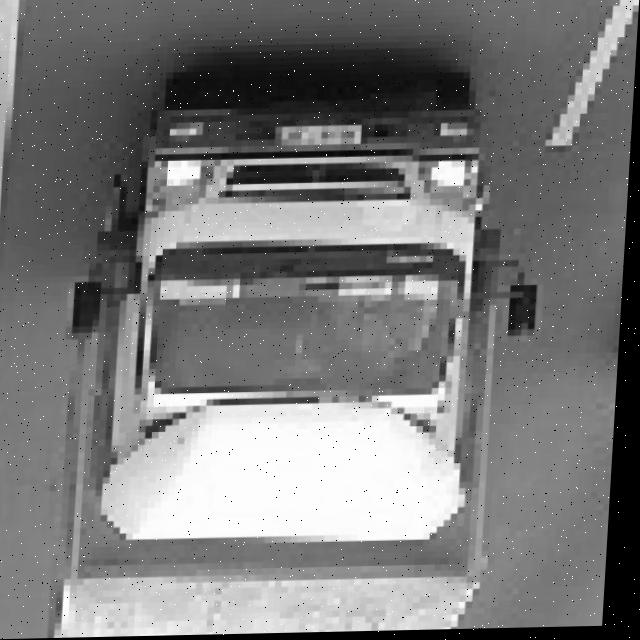truck: (47, 54, 570, 568)
